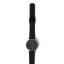watch: (25, 38, 40, 52)
